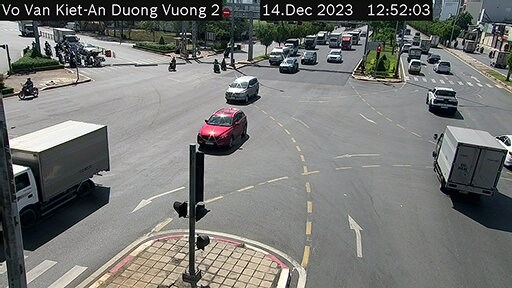car: (190, 105, 253, 149), (221, 73, 259, 105), (423, 82, 461, 109), (325, 49, 345, 68), (301, 47, 319, 68), (278, 58, 301, 74), (434, 57, 452, 75), (407, 59, 421, 76)
truck: (4, 119, 116, 233), (417, 120, 509, 204)
